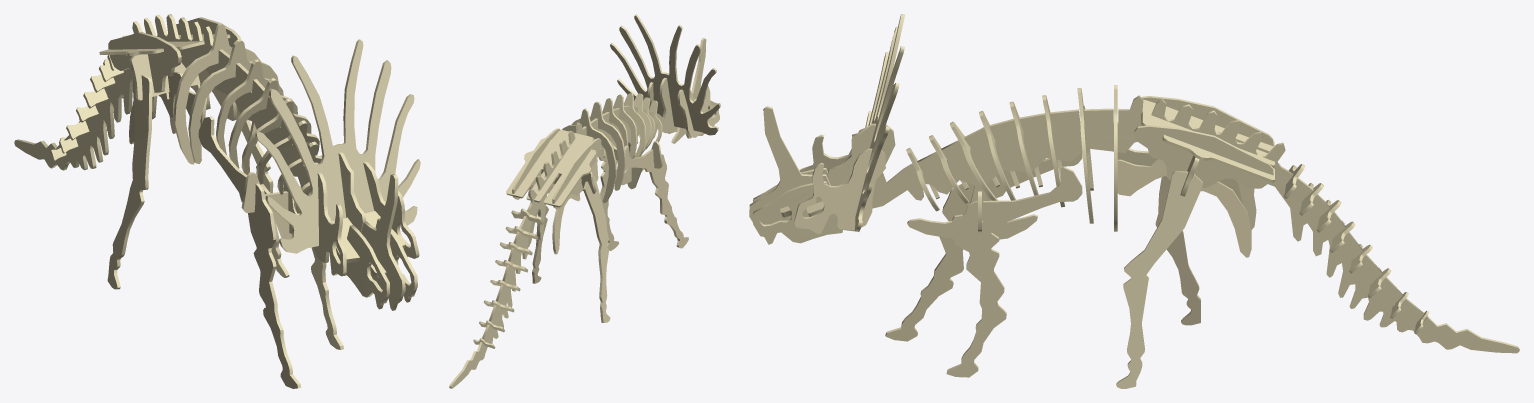
3 views of the same model, side by side, from view 1: azimuth 30°, elevation 25°; view 2: azimuth 150°, elevation 25°; view 3: azimuth 270°, elevation 25° (orthographic). The views are drawn at different scales.
Visible parts, largest first — view 1: b_Legs_0; view 2: b_Legs_0; view 3: b_Legs_0.
Part boxes in pixels (<box>): b_Legs_0: <box>14,14,420,388</box>; b_Legs_0: <box>449,14,720,388</box>; b_Legs_0: <box>749,14,1519,388</box>.
Bounding box in the file's own units: 11.87 × 23.87 × 50.7.
